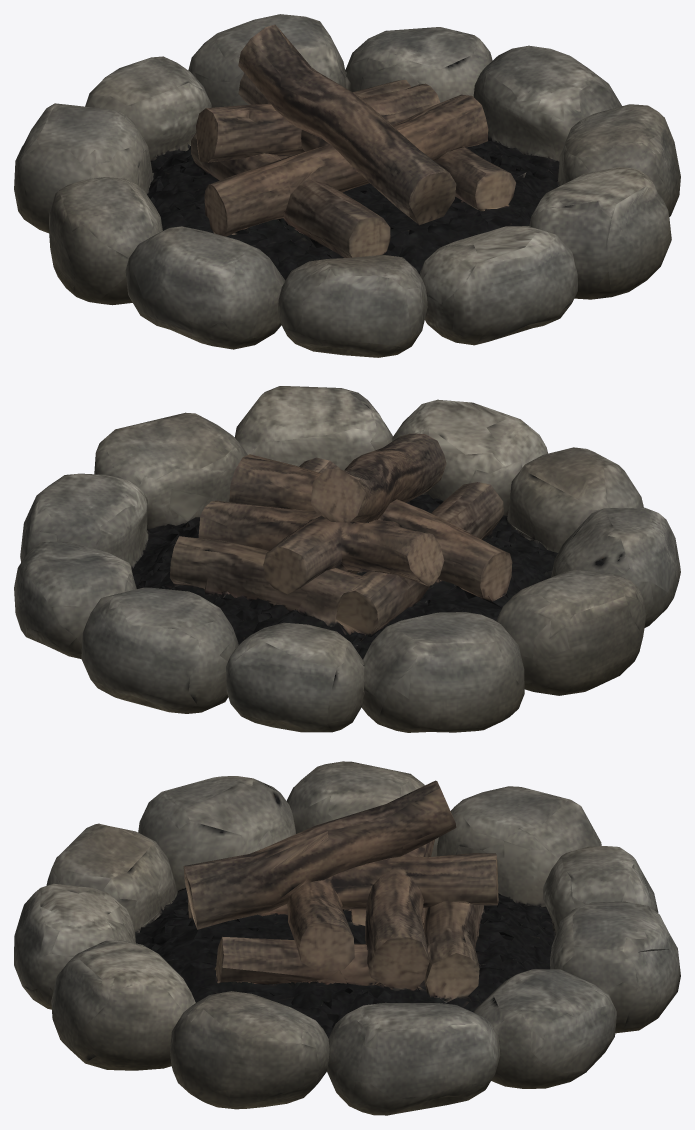
3 views of the same model, one above another, from view 1: azimuth 30°, elevation 25°; view 2: azimuth 150°, elevation 25°; view 3: azimuth 270°, elevation 25° (orthographic).
Parts seen in each view (by area): view 1: stone-firepit.001; view 2: stone-firepit.001; view 3: stone-firepit.001.
Boxes of the visible parts, x1,y1,x2,y2 form: stone-firepit.001: (14, 14, 680, 357); stone-firepit.001: (14, 386, 680, 732); stone-firepit.001: (14, 761, 680, 1115).
Bounding box in the file's own units: 1.62 × 0.5018 × 1.61.
1 material, 1 textured.
